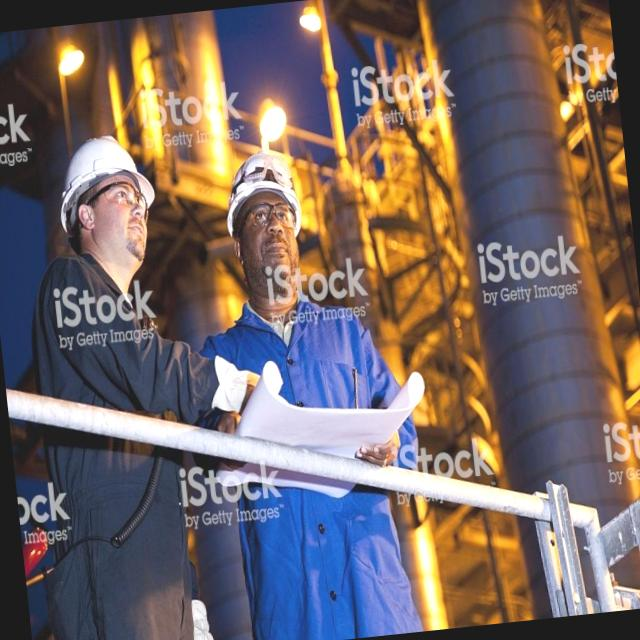helmet: (48, 128, 162, 238), (215, 141, 308, 240)
no-vest: (29, 242, 150, 412), (216, 289, 364, 426)
